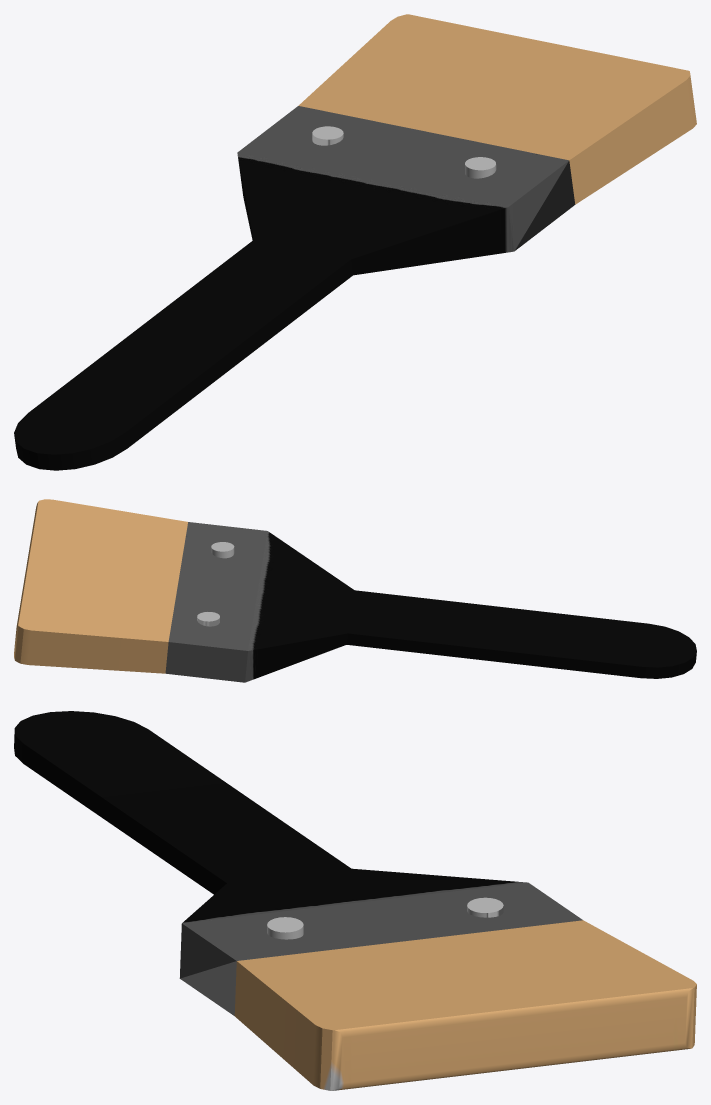
Rendered from brush.fbx.
The picture shows the model from 3 angles, top to bottom: view 1: azimuth 30°, elevation 25°; view 2: azimuth 150°, elevation 25°; view 3: azimuth 270°, elevation 25°; orthographic projection. The views are drawn at different scales.
Parts seen in each view (by area): view 1: brush1; view 2: brush1; view 3: brush1.
Boxes of the visible parts, <box> form: brush1: <box>14,14,696,470</box>; brush1: <box>14,499,696,682</box>; brush1: <box>14,711,696,1090</box>.
Bounding box in the file's own units: 14.74 × 2.2 × 9.56.
1 material, 1 textured.
